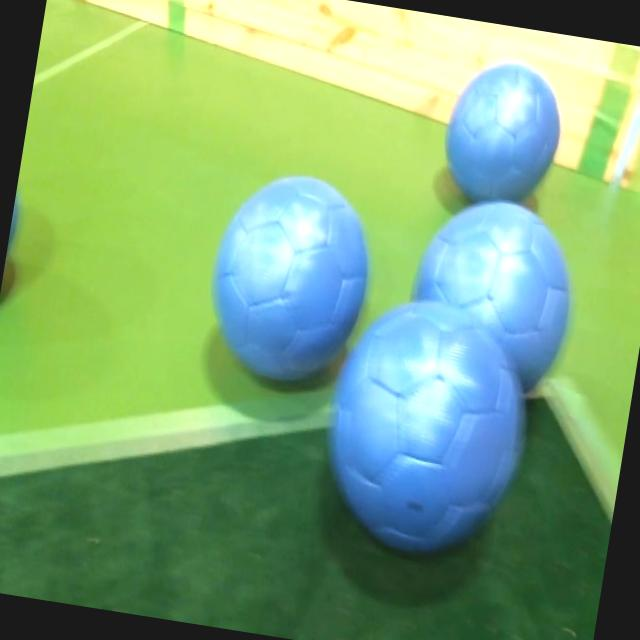blue_ball: (310, 290, 540, 570), (196, 162, 381, 401), (398, 188, 584, 400), (435, 56, 571, 216)
